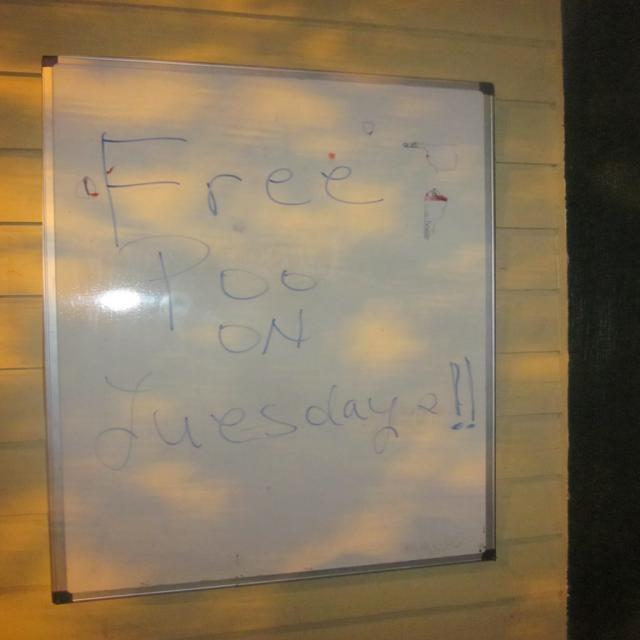Whiteboard: (40, 54, 498, 604)
